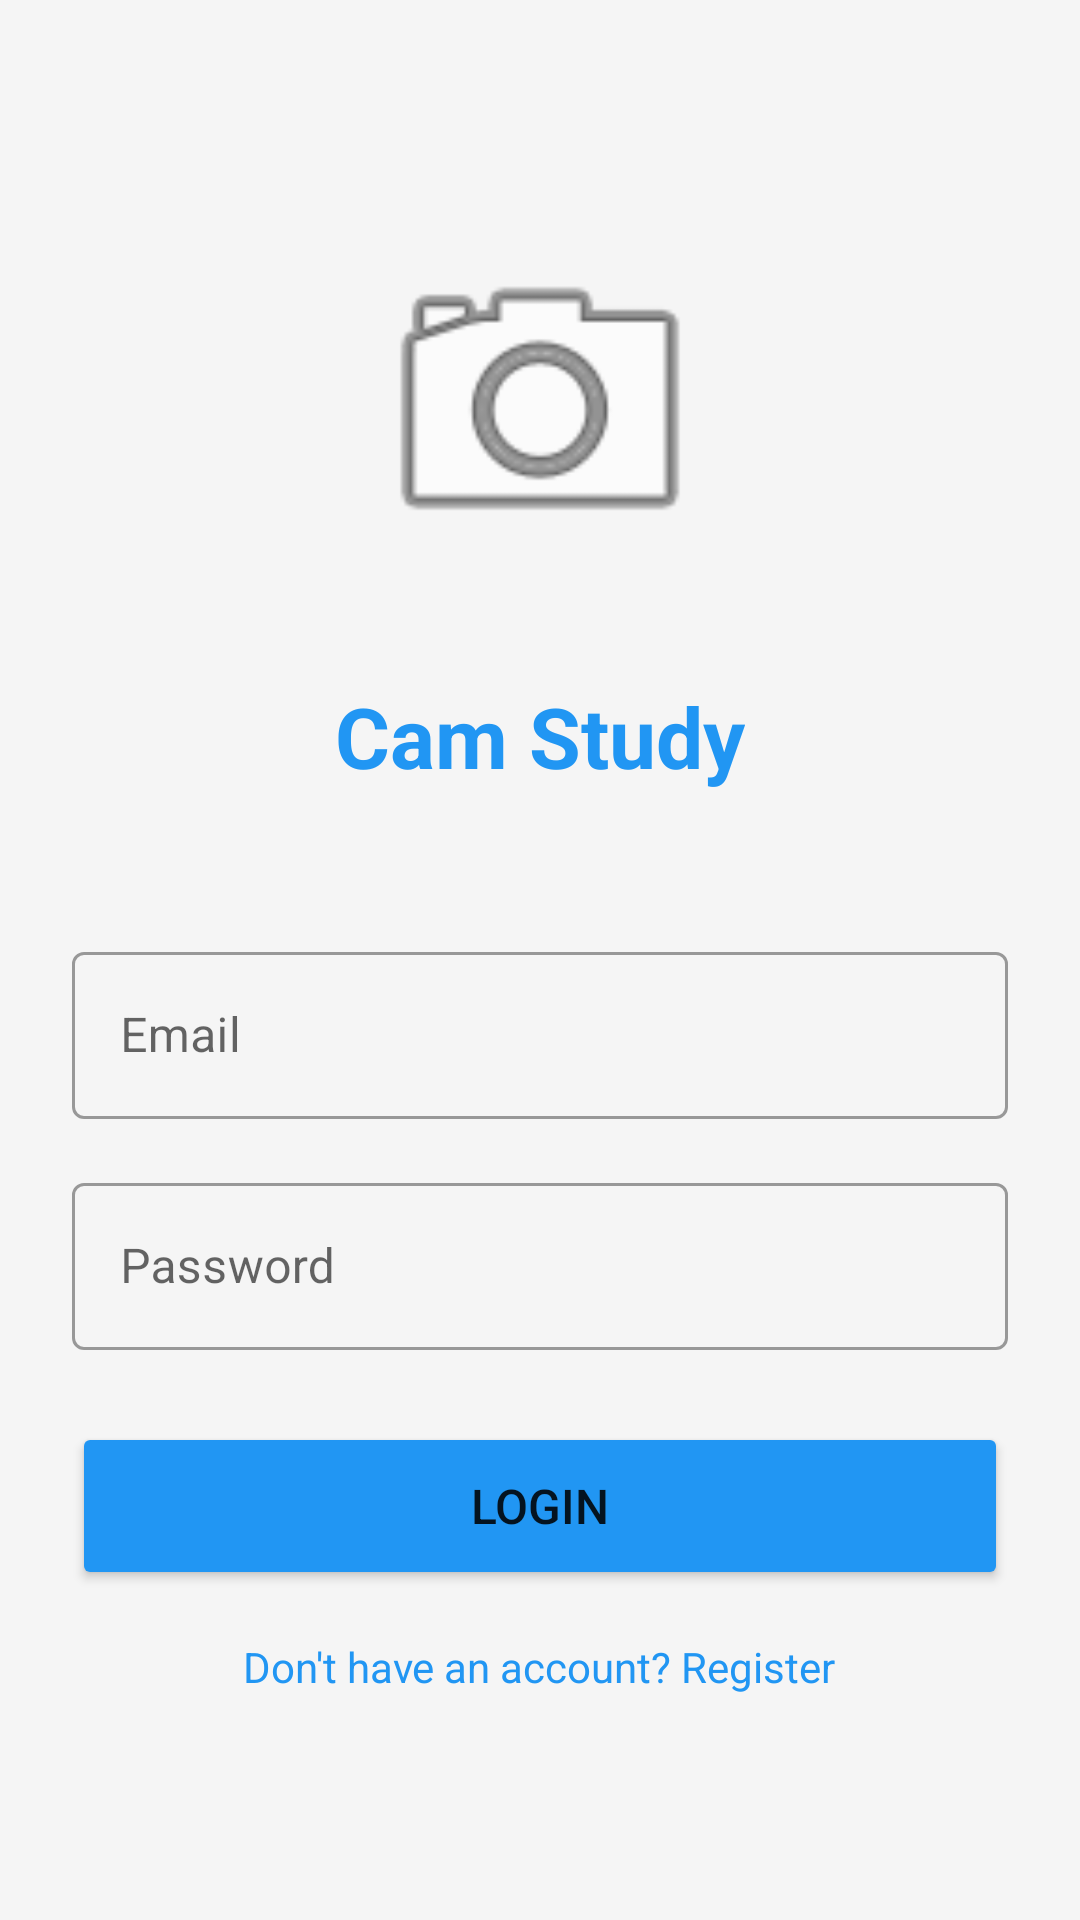

Icon bounding boxes for this 1080w x 1920h phone screenshot, format box(x1, y1, x2, y2):
camera: box(401, 287, 679, 509)
